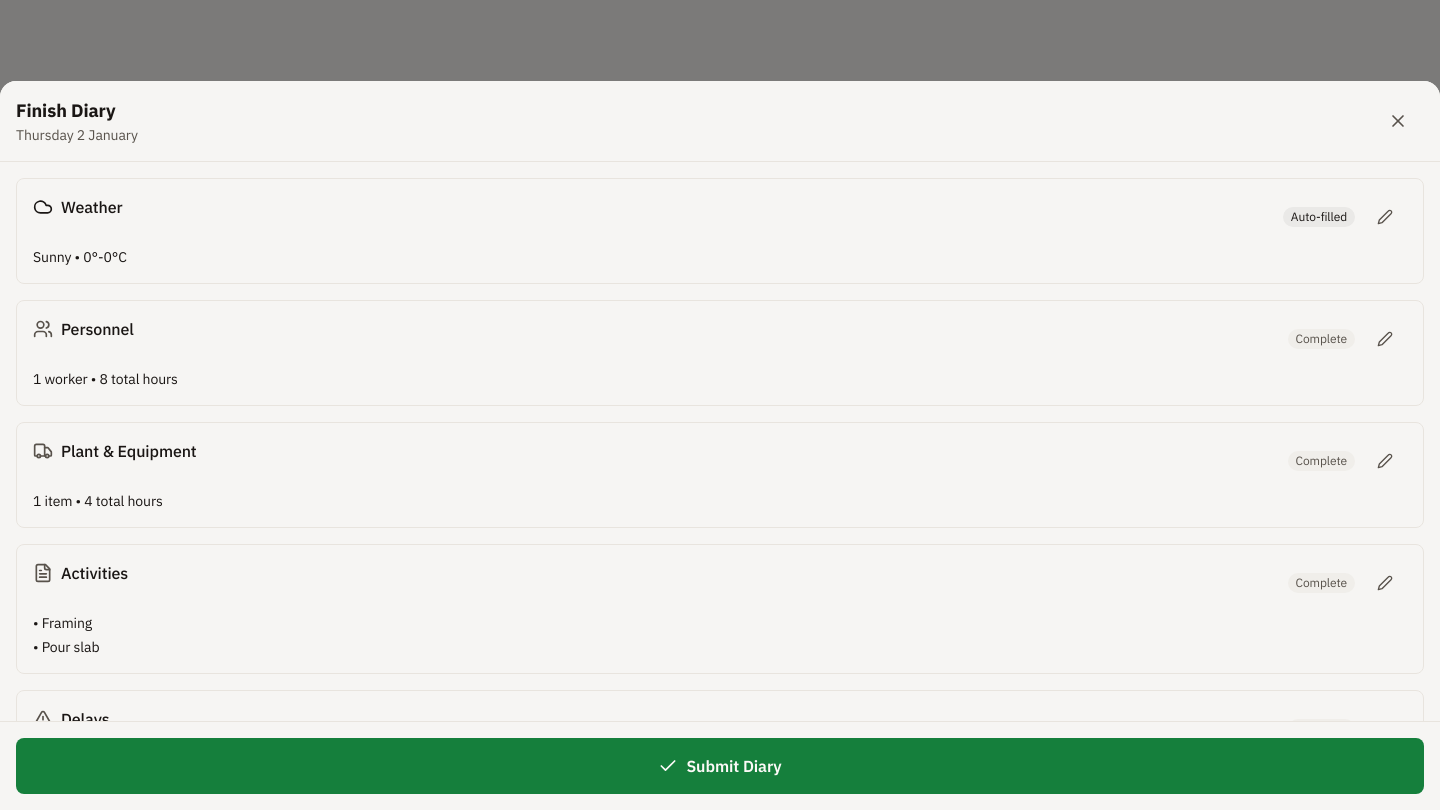
Scenario: DiaryFinishFlow — submit ceremony › shows offline queued copy when submit fails with network error
Click the button "Submit Diary": (720,766) [16,738,1424,794]
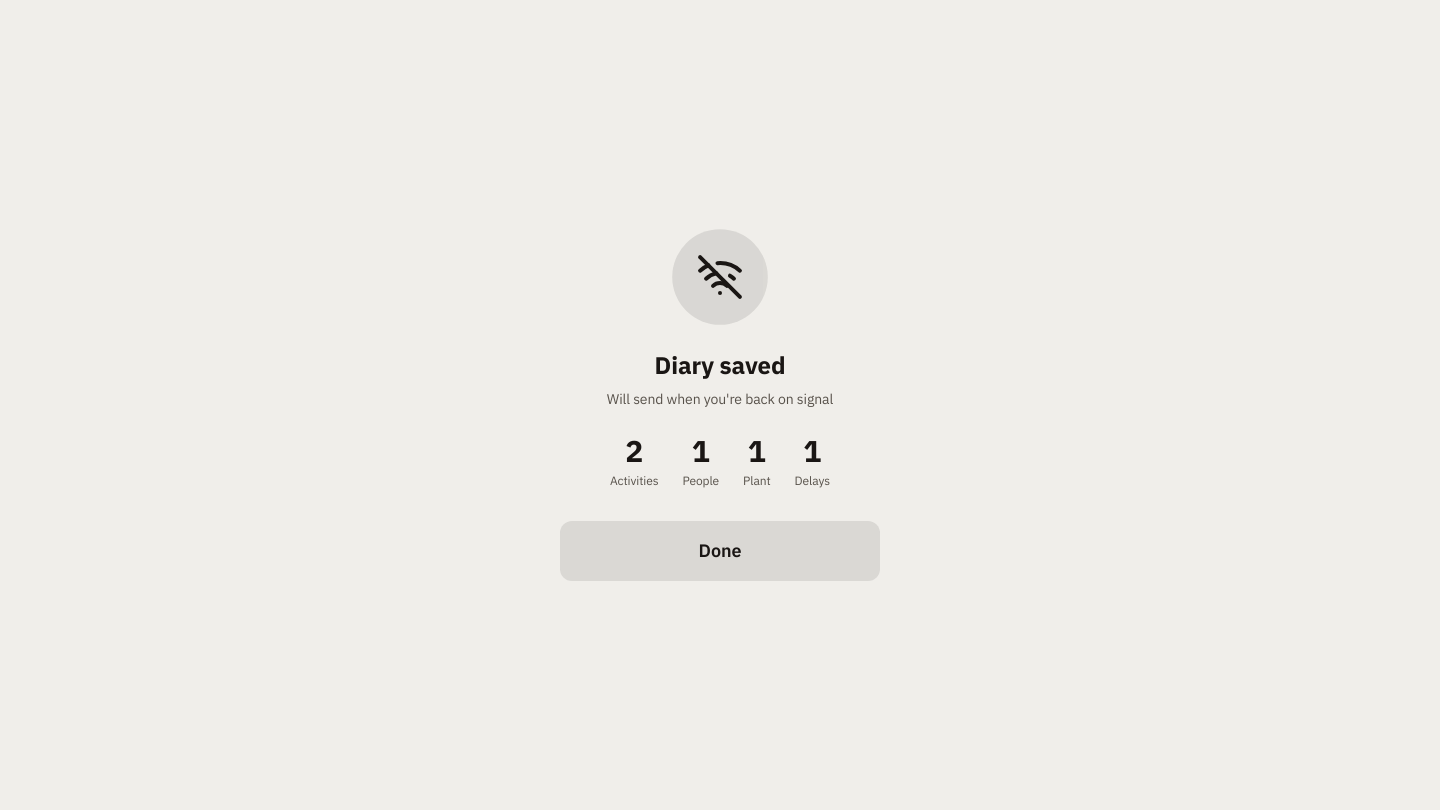
Result: the element with test id "submit-ceremony" is shown
Result: the heading "Diary saved" is shown at [655,349,786,381]
Result: the text "Will send when you're back on signal" is shown at [607,389,833,409]
